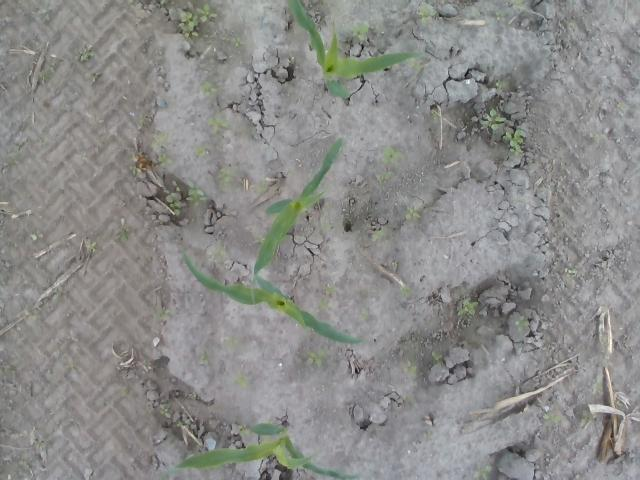Maize: (176, 244, 364, 348), (250, 135, 346, 303), (156, 411, 364, 480), (284, 1, 422, 105)
Weeds: (177, 4, 217, 40), (149, 126, 178, 168), (318, 282, 340, 313), (479, 106, 506, 130), (502, 128, 525, 154), (416, 4, 438, 26), (186, 182, 207, 205), (302, 350, 328, 368), (455, 296, 478, 316), (217, 166, 234, 192), (32, 0, 52, 22), (208, 116, 230, 136), (472, 461, 494, 480), (408, 58, 424, 82), (200, 78, 218, 99), (208, 242, 225, 264), (382, 146, 402, 164), (404, 206, 422, 224), (376, 174, 394, 192), (351, 22, 369, 40), (223, 333, 240, 352), (232, 371, 250, 388), (399, 358, 416, 376), (40, 62, 56, 81), (590, 374, 606, 392), (80, 48, 98, 63), (514, 315, 528, 334), (193, 144, 209, 160), (494, 80, 512, 94), (580, 412, 594, 430), (542, 412, 561, 425), (168, 197, 180, 216), (128, 164, 144, 178), (430, 350, 443, 367), (116, 224, 128, 242), (253, 178, 267, 193), (296, 322, 309, 338), (367, 228, 384, 240), (158, 404, 172, 418), (510, 0, 528, 10), (318, 223, 336, 233), (159, 306, 170, 322), (400, 286, 417, 296), (24, 310, 38, 322), (424, 423, 434, 439), (238, 422, 250, 434), (494, 10, 506, 22), (198, 351, 208, 365), (358, 309, 369, 321), (231, 36, 241, 49), (86, 240, 96, 253), (176, 420, 192, 428), (565, 268, 577, 278), (286, 54, 296, 65), (158, 98, 169, 108), (65, 360, 76, 370), (591, 132, 600, 144), (30, 231, 42, 240), (255, 231, 264, 243), (431, 110, 441, 120), (392, 260, 401, 268), (174, 184, 183, 192), (190, 391, 198, 400), (288, 167, 295, 177)
